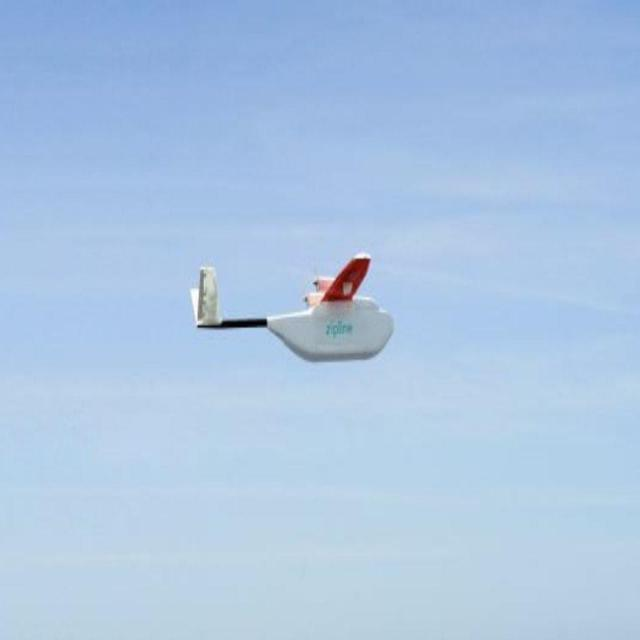UAV: (210, 232, 412, 390)
